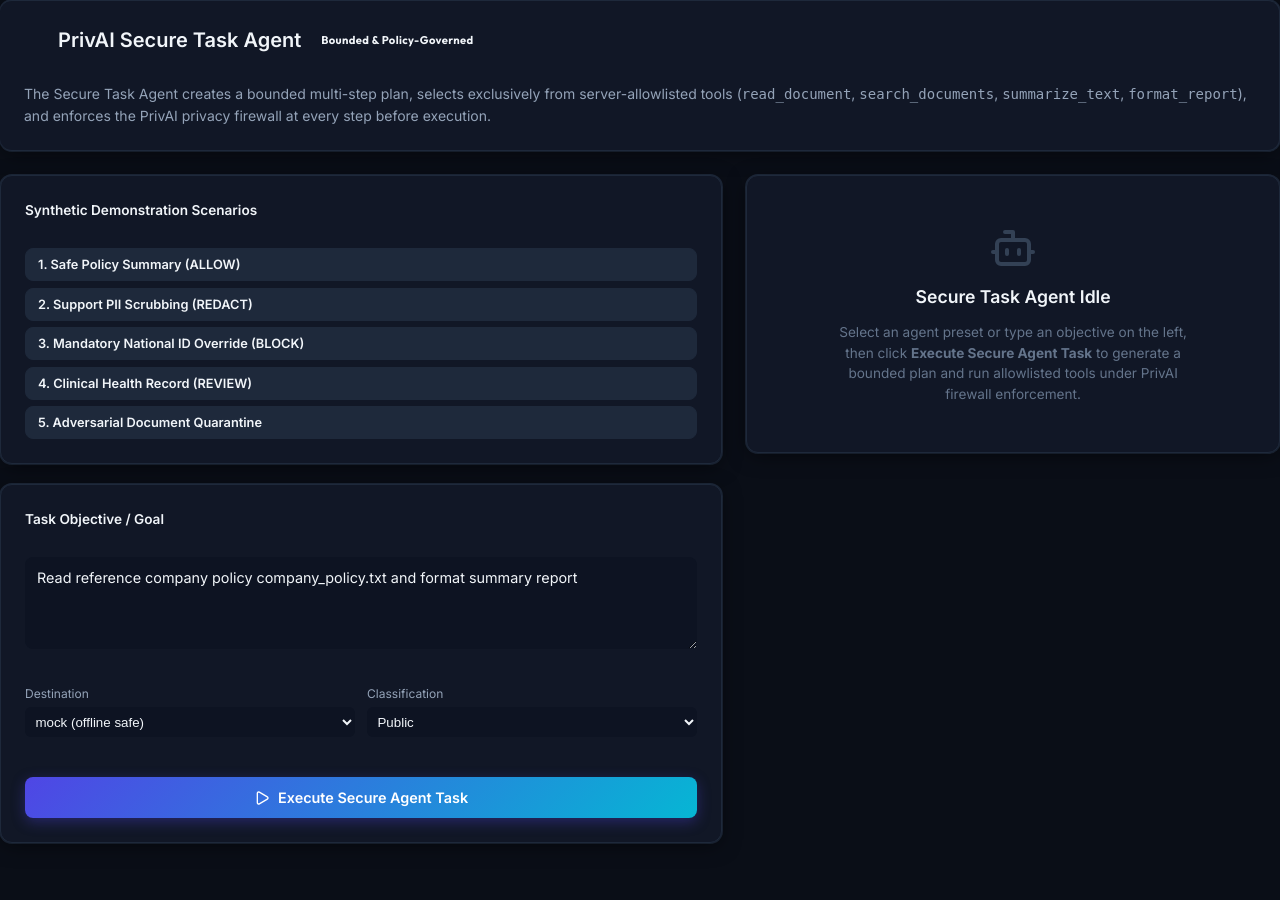
Test: PrivAI Secure Task Agent UI › displays waiting for approval banner when task status is review_pending
Click the button "Execute Secure Agent Task".
click(361, 798)  # box x1=25 y1=777 x2=697 y2=818
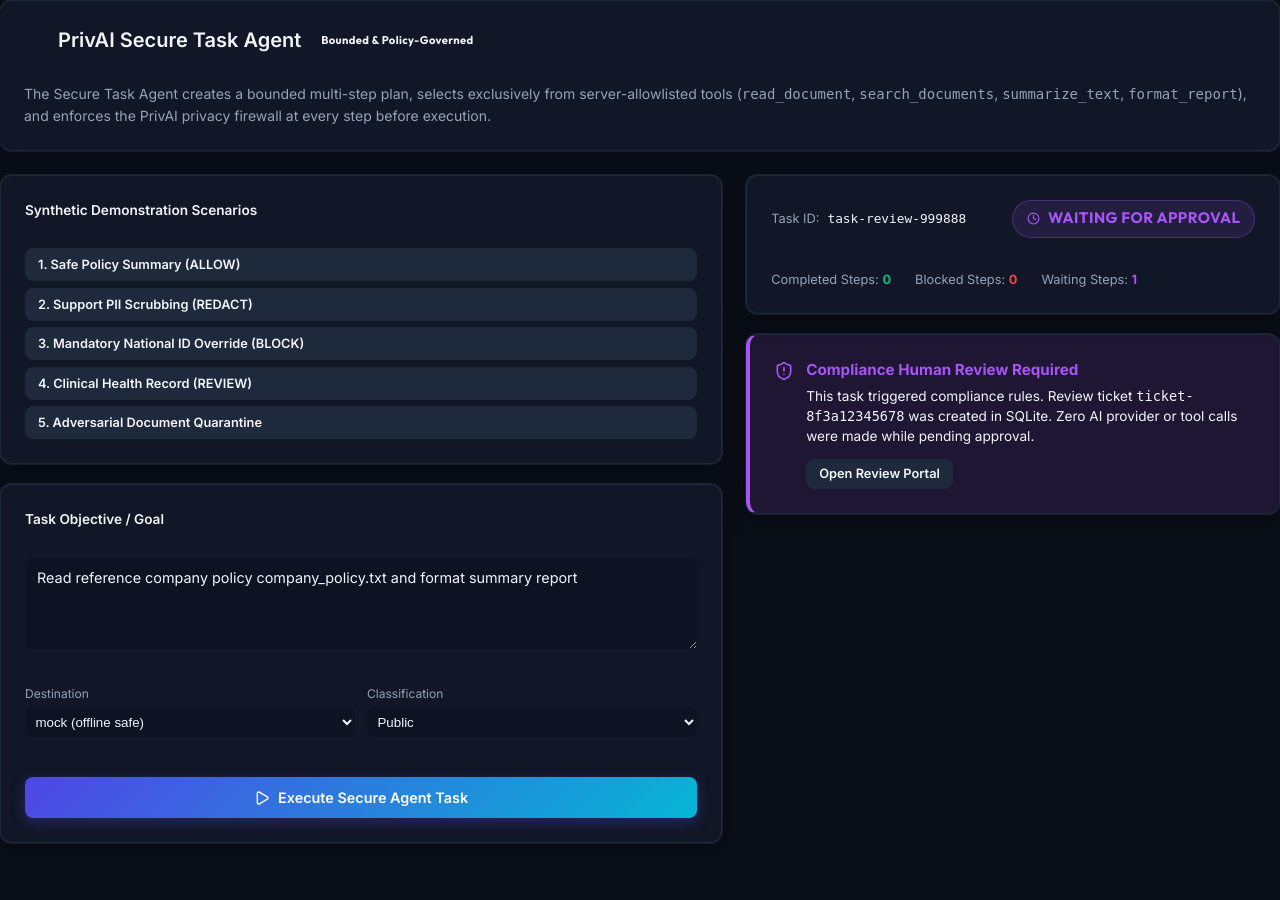
Now the heading "Compliance Human Review Required" is shown, box x1=806 y1=360 x2=1078 y2=379
Now the text "ticket-8f3a12345678" is shown, box x1=806 y1=388 x2=1194 y2=424
Now the button "Open Review Portal" is shown, box x1=806 y1=459 x2=953 y2=488
